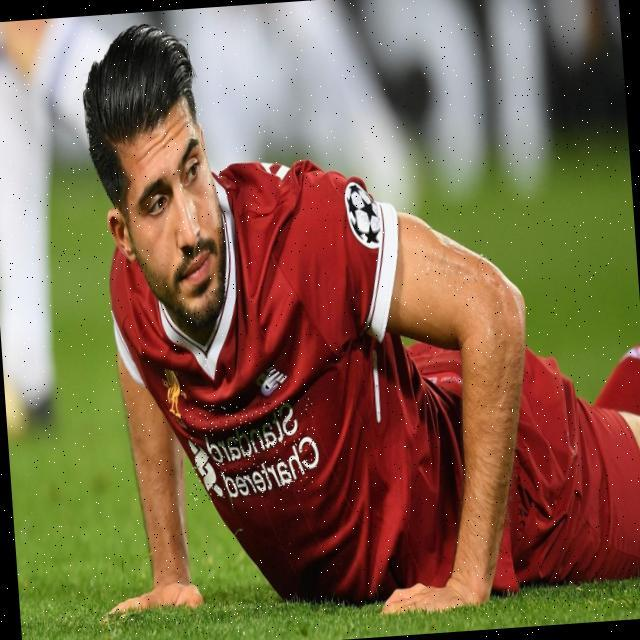Standard Chartered: (184, 398, 320, 502)
